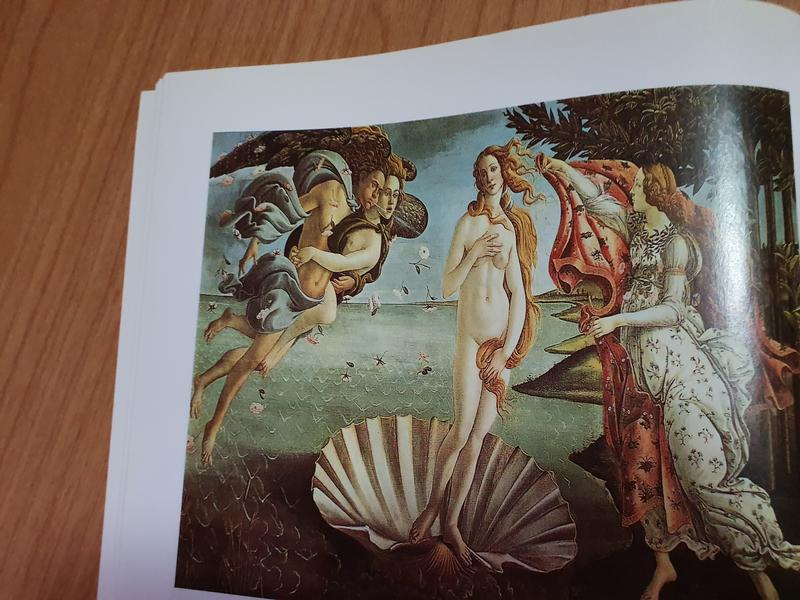Venere: (173, 84, 800, 596)
